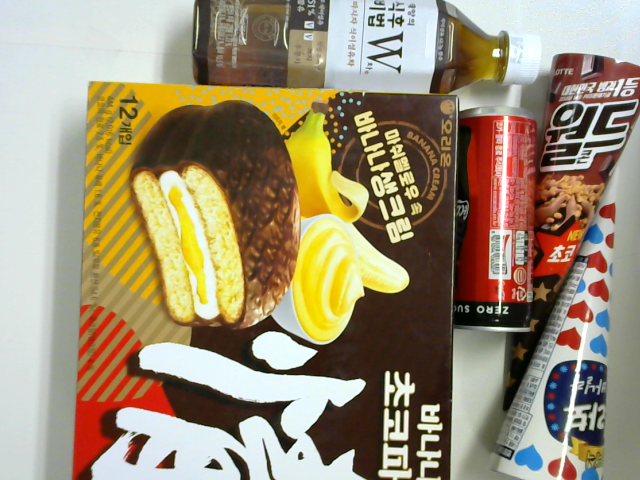Bravo_Cone_(Banila)_CVS: (488, 162, 625, 480)
Choco_Pie_Banana: (71, 78, 453, 480)
Coca_Cola_Zero_Can_250ml: (453, 103, 533, 332)
Post-meal_recipe_W_tea_500ml: (188, 1, 544, 100)
World_Cone_Choco: (506, 50, 640, 411)
